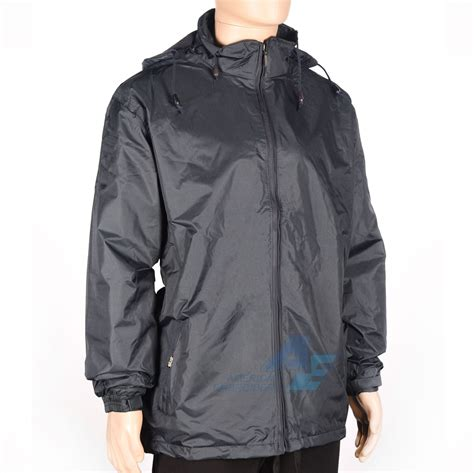nylon: (86, 9, 387, 458)
